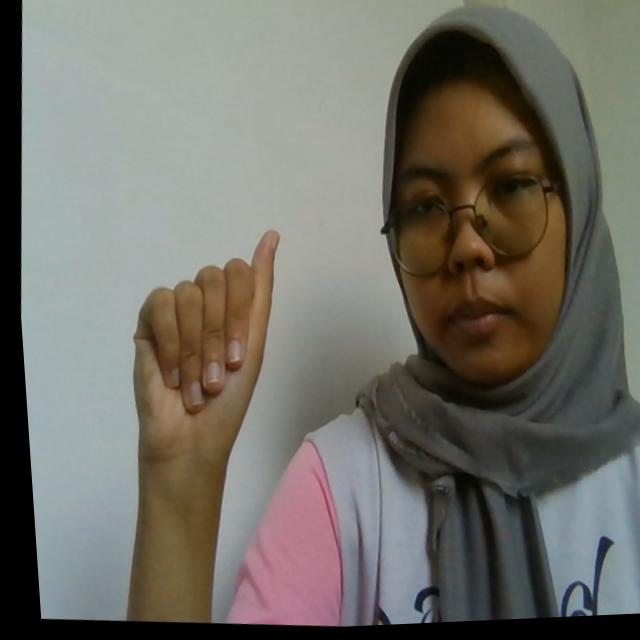A: (113, 219, 291, 470)
